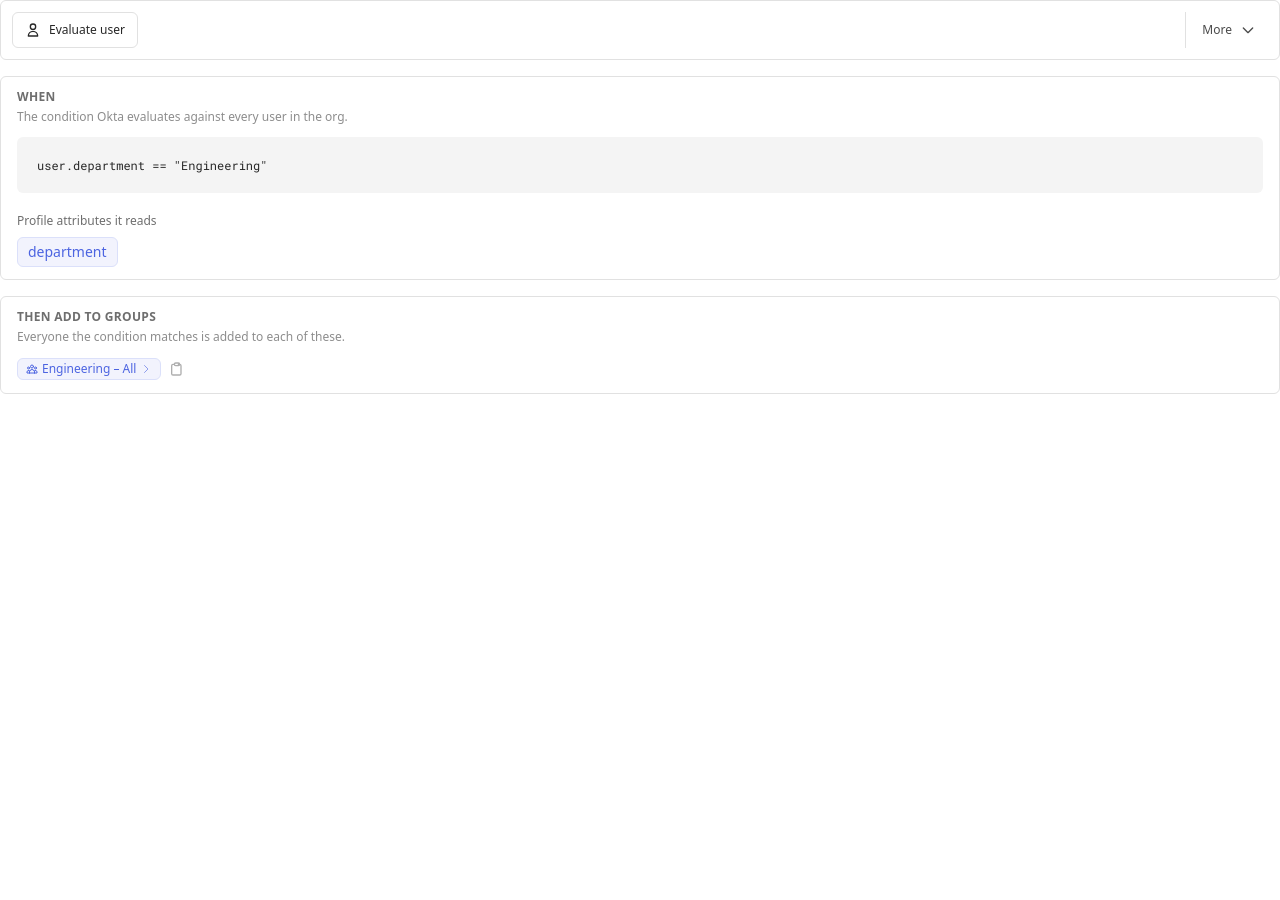
RuleDetailView — Evaluate user › states a failed load and shows no verdict
This screenshot has width=1280, height=900.
Click the button named "Evaluate user": (75,30) [12,12,138,48]
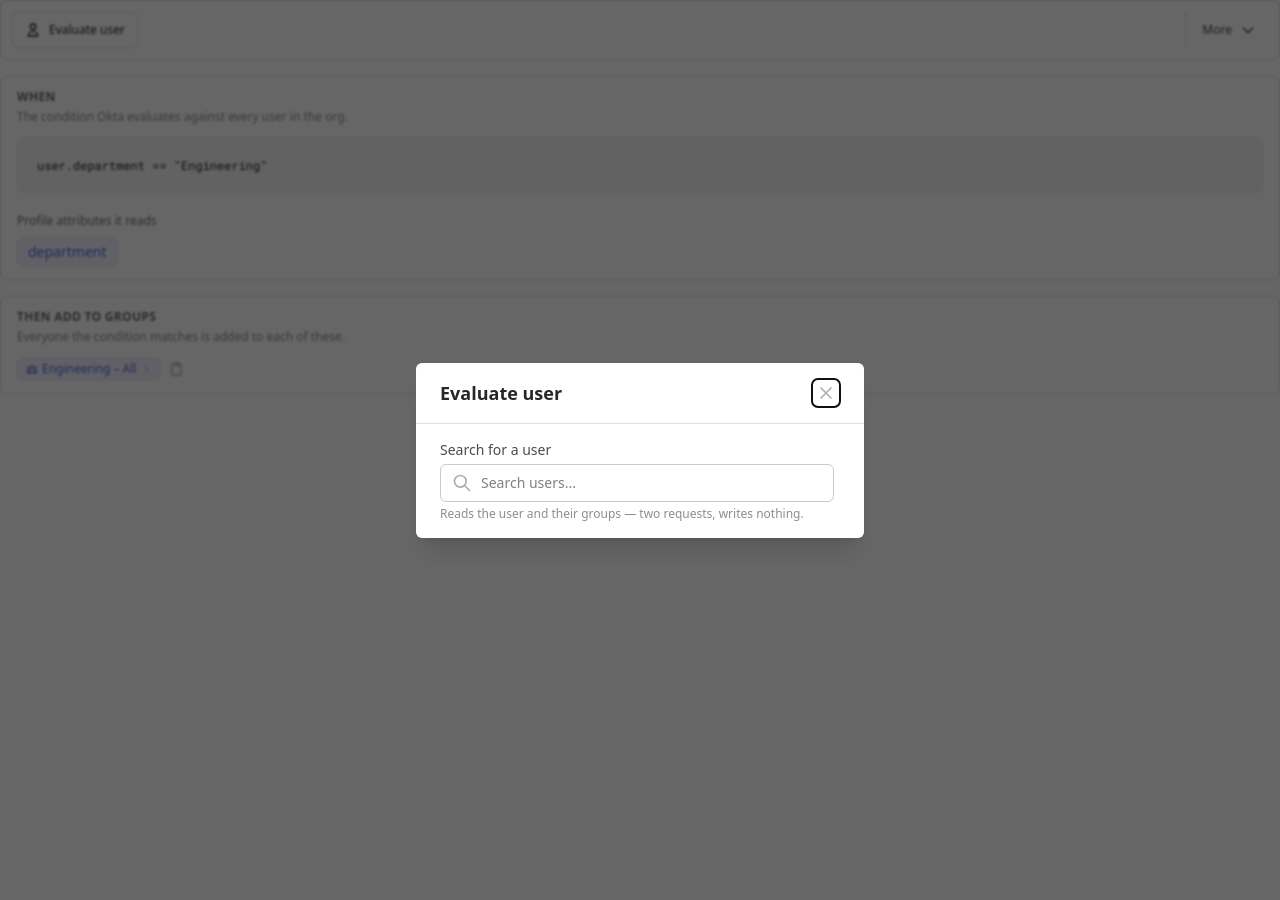
In the field with placeholder "Search users...": (637,482) [440,464,834,502], type "ada"
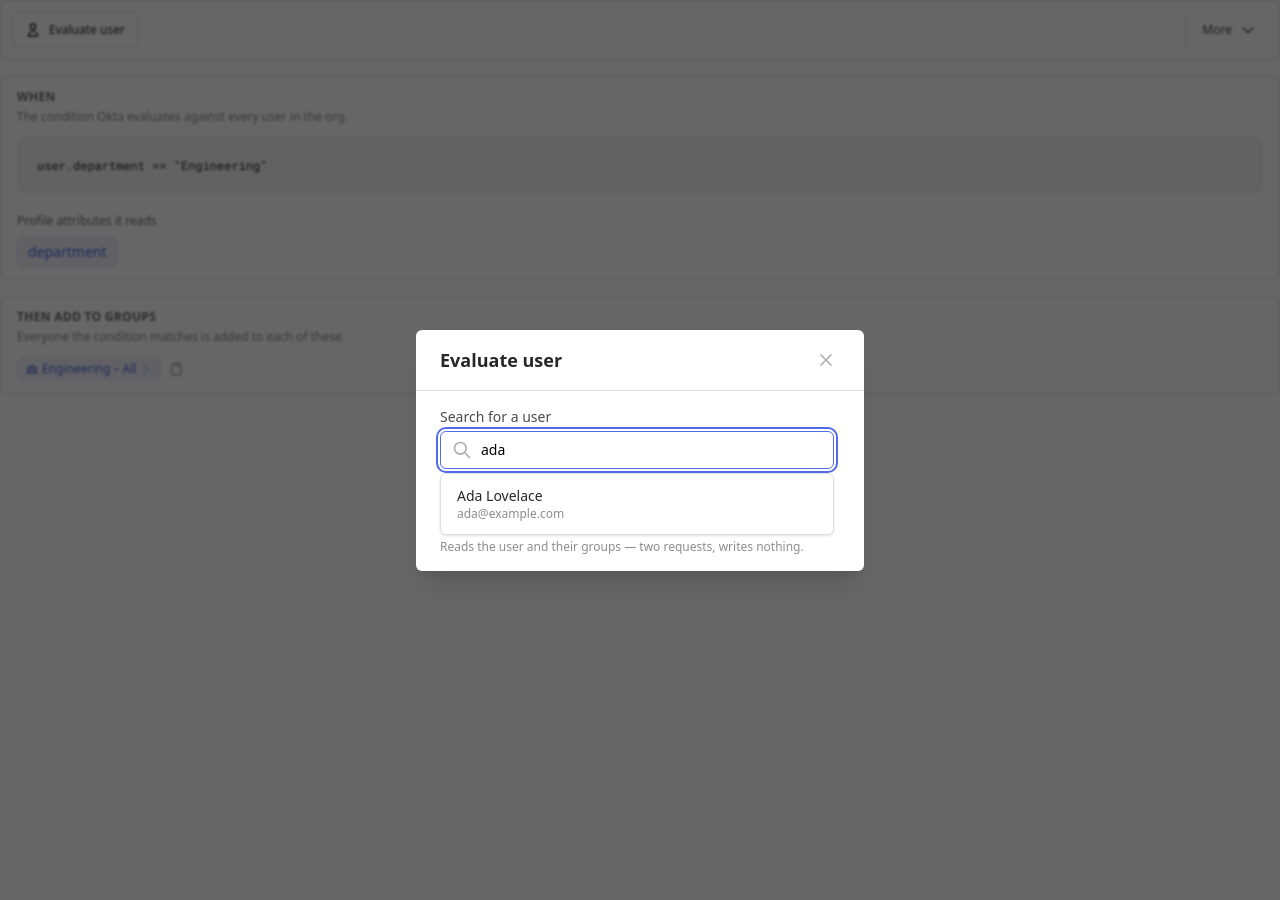
Click the text "Ada Lovelace": (500,495) [457,486,543,504]
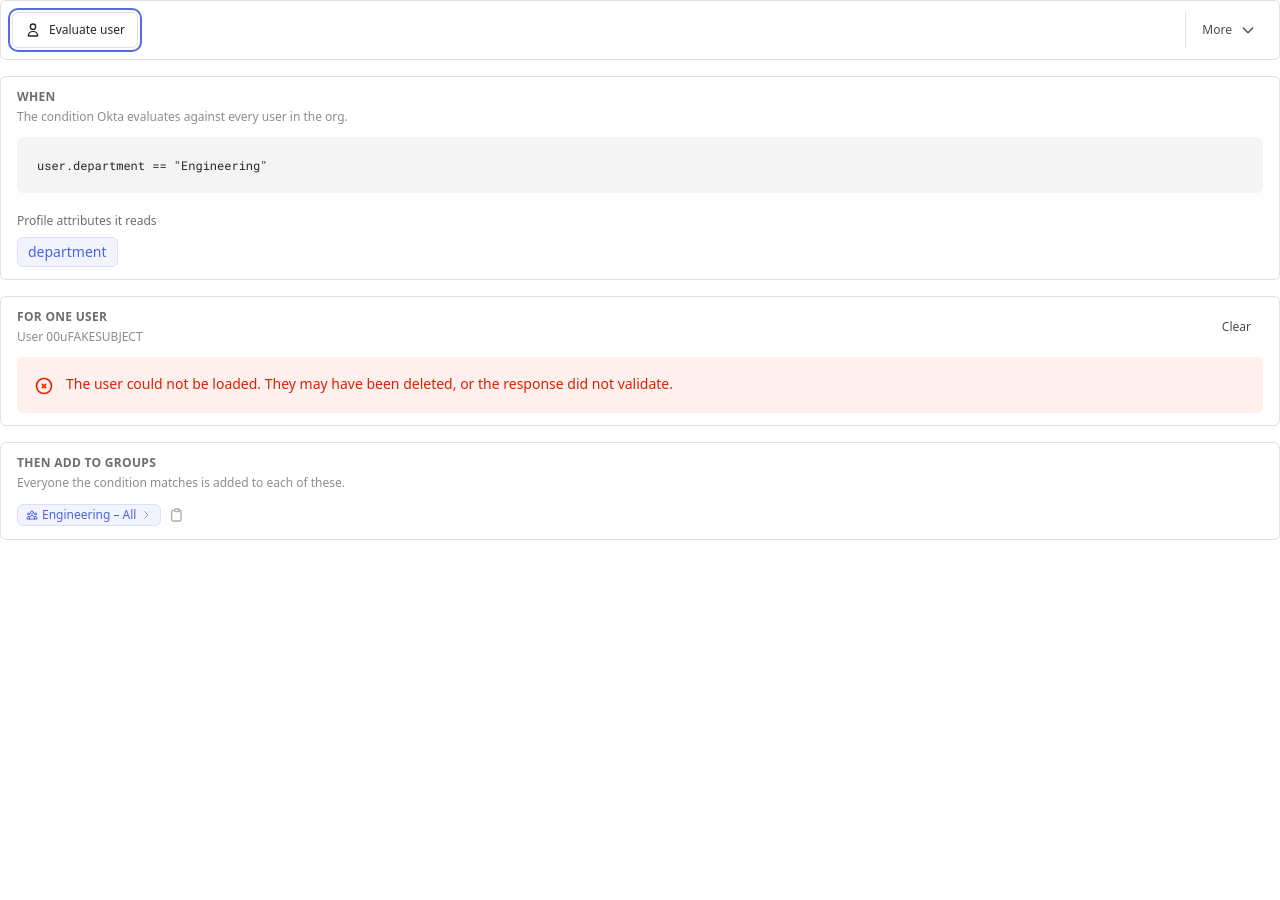
Expected: the text "The user could not be loaded" is shown, [66,374,673,393]
